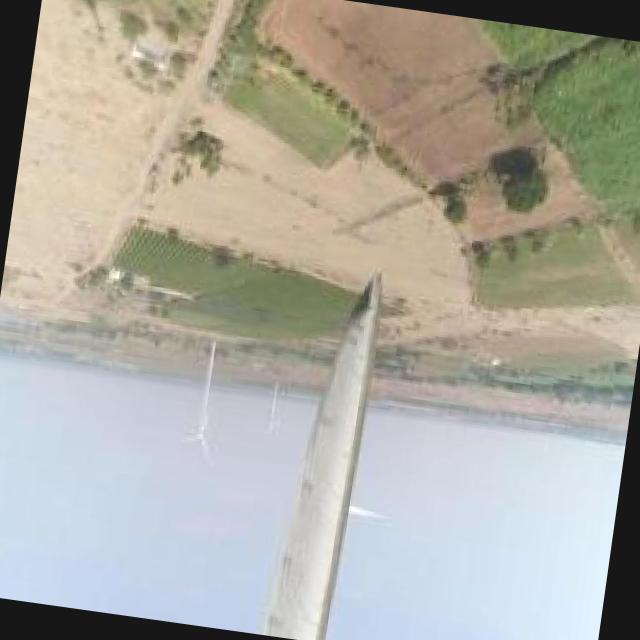Dirt: (262, 283, 376, 634)
Oil LEAKAGE: (349, 276, 375, 322)
